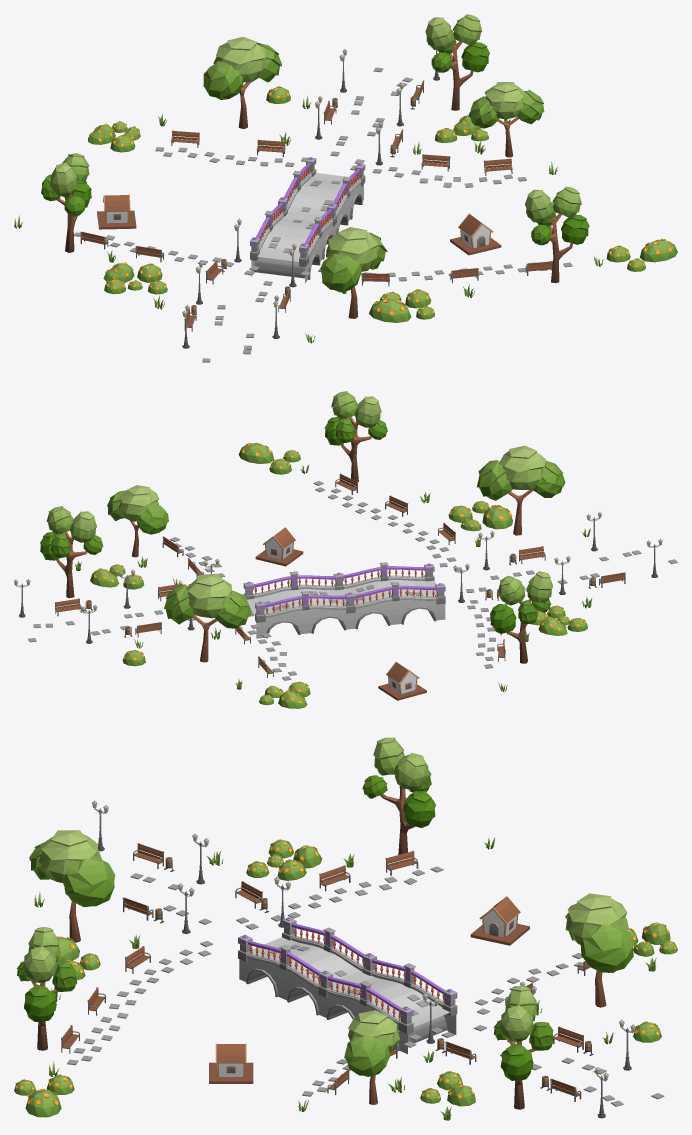
Rendered from field_01.glb.
3 views of the same model, one above another, from view 1: azimuth 30°, elevation 25°; view 2: azimuth 150°, elevation 25°; view 3: azimuth 270°, elevation 25° (orthographic). The views are drawn at different scales.
Parts seen in each view (by area): view 1: bridge 4_10, tree 18_152, tree 18 (2)_80, tree 17_99, tree 17 (1)_93, tree 18 (1)_44, tree 17 (2)_74, swan house_162, swan house (1)_163, bush plant flowers yellow 2 (1)_111, bush plant flowers yellow 2_33; view 2: bridge 4_10, tree 18 (2)_80, tree 18_152, tree 17 (2)_74, tree 17_99, tree 17 (1)_93, tree 18 (1)_44, swan house (1)_163, swan house_162, bush plant flowers yellow 2 (1)_111, bush plant flowers yellow 2_33; view 3: bridge 4_10, tree 18 (2)_80, tree 18_152, tree 17 (2)_74, tree 17 (1)_93, tree 17_99, tree 18 (1)_44, swan house (1)_163, swan house_162, bush plant flowers yellow 2_33.
Part boxes in pixels (x1=…): bridge 4_10: x1=250, y1=157, x2=365, y2=283; tree 18_152: x1=203, y1=37, x2=281, y2=128; tree 18 (2)_80: x1=320, y1=227, x2=387, y2=318; tree 17_99: x1=425, y1=14, x2=489, y2=110; tree 17 (1)_93: x1=525, y1=186, x2=589, y2=282; tree 18 (1)_44: x1=468, y1=82, x2=544, y2=157; tree 17 (2)_74: x1=41, y1=153, x2=91, y2=252; swan house_162: x1=450, y1=213, x2=501, y2=255; swan house (1)_163: x1=97, y1=194, x2=136, y2=229; bush plant flowers yellow 2 (1)_111: x1=369, y1=298, x2=411, y2=322; bush plant flowers yellow 2_33: x1=639, y1=238, x2=677, y2=262; bridge 4_10: x1=243, y1=562, x2=445, y2=638; tree 18 (2)_80: x1=477, y1=445, x2=565, y2=535; tree 18_152: x1=164, y1=573, x2=250, y2=662; tree 17 (2)_74: x1=490, y1=571, x2=552, y2=663; tree 17_99: x1=40, y1=506, x2=103, y2=598; tree 17 (1)_93: x1=324, y1=391, x2=387, y2=482; tree 18 (1)_44: x1=107, y1=485, x2=168, y2=557; swan house (1)_163: x1=378, y1=661, x2=426, y2=700; swan house_162: x1=255, y1=527, x2=303, y2=566; bush plant flowers yellow 2 (1)_111: x1=482, y1=505, x2=512, y2=529; bush plant flowers yellow 2_33: x1=238, y1=442, x2=274, y2=463; bridge 4_10: x1=238, y1=917, x2=457, y2=1054; tree 18 (2)_80: x1=29, y1=830, x2=115, y2=942; tree 18_152: x1=565, y1=893, x2=633, y2=1007; tree 17 (2)_74: x1=362, y1=737, x2=435, y2=854; tree 17 (1)_93: x1=17, y1=927, x2=77, y2=1050; tree 17_99: x1=493, y1=985, x2=553, y2=1109; tree 18 (1)_44: x1=344, y1=1010, x2=400, y2=1104; swan house (1)_163: x1=470, y1=896, x2=529, y2=945; swan house_162: x1=209, y1=1043, x2=253, y2=1083; bush plant flowers yellow 2_33: x1=25, y1=1089, x2=61, y2=1117.
Bounding box in the file's own units: 19.45 × 4.41 × 19.27.
Materials: 1 (1 with a texture image).
